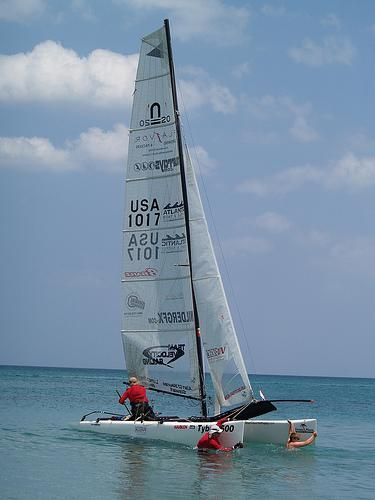Ship: (72, 18, 318, 451)
